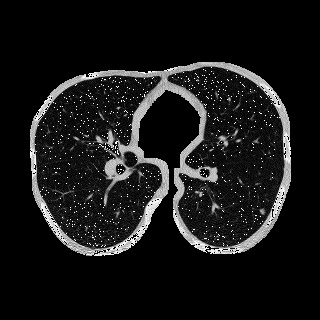PN: (260, 209, 264, 213)
